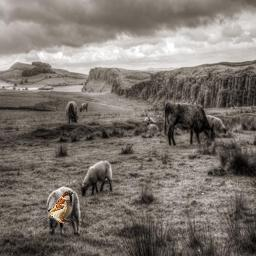Sparrow: (39, 190, 73, 223)
